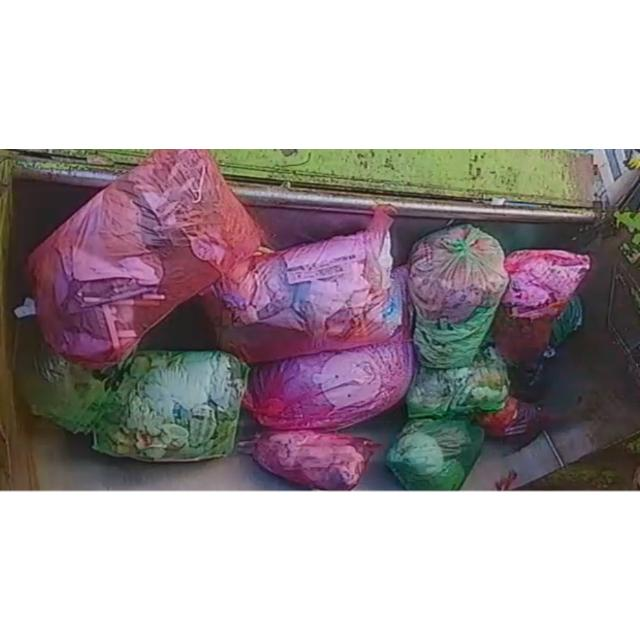general_trashbag: (21, 344, 249, 460), (406, 346, 510, 417), (388, 418, 484, 489), (414, 306, 496, 368)
other_trashbag: (29, 148, 261, 368), (211, 208, 406, 362), (242, 327, 414, 430), (492, 249, 591, 361), (252, 429, 379, 490)
